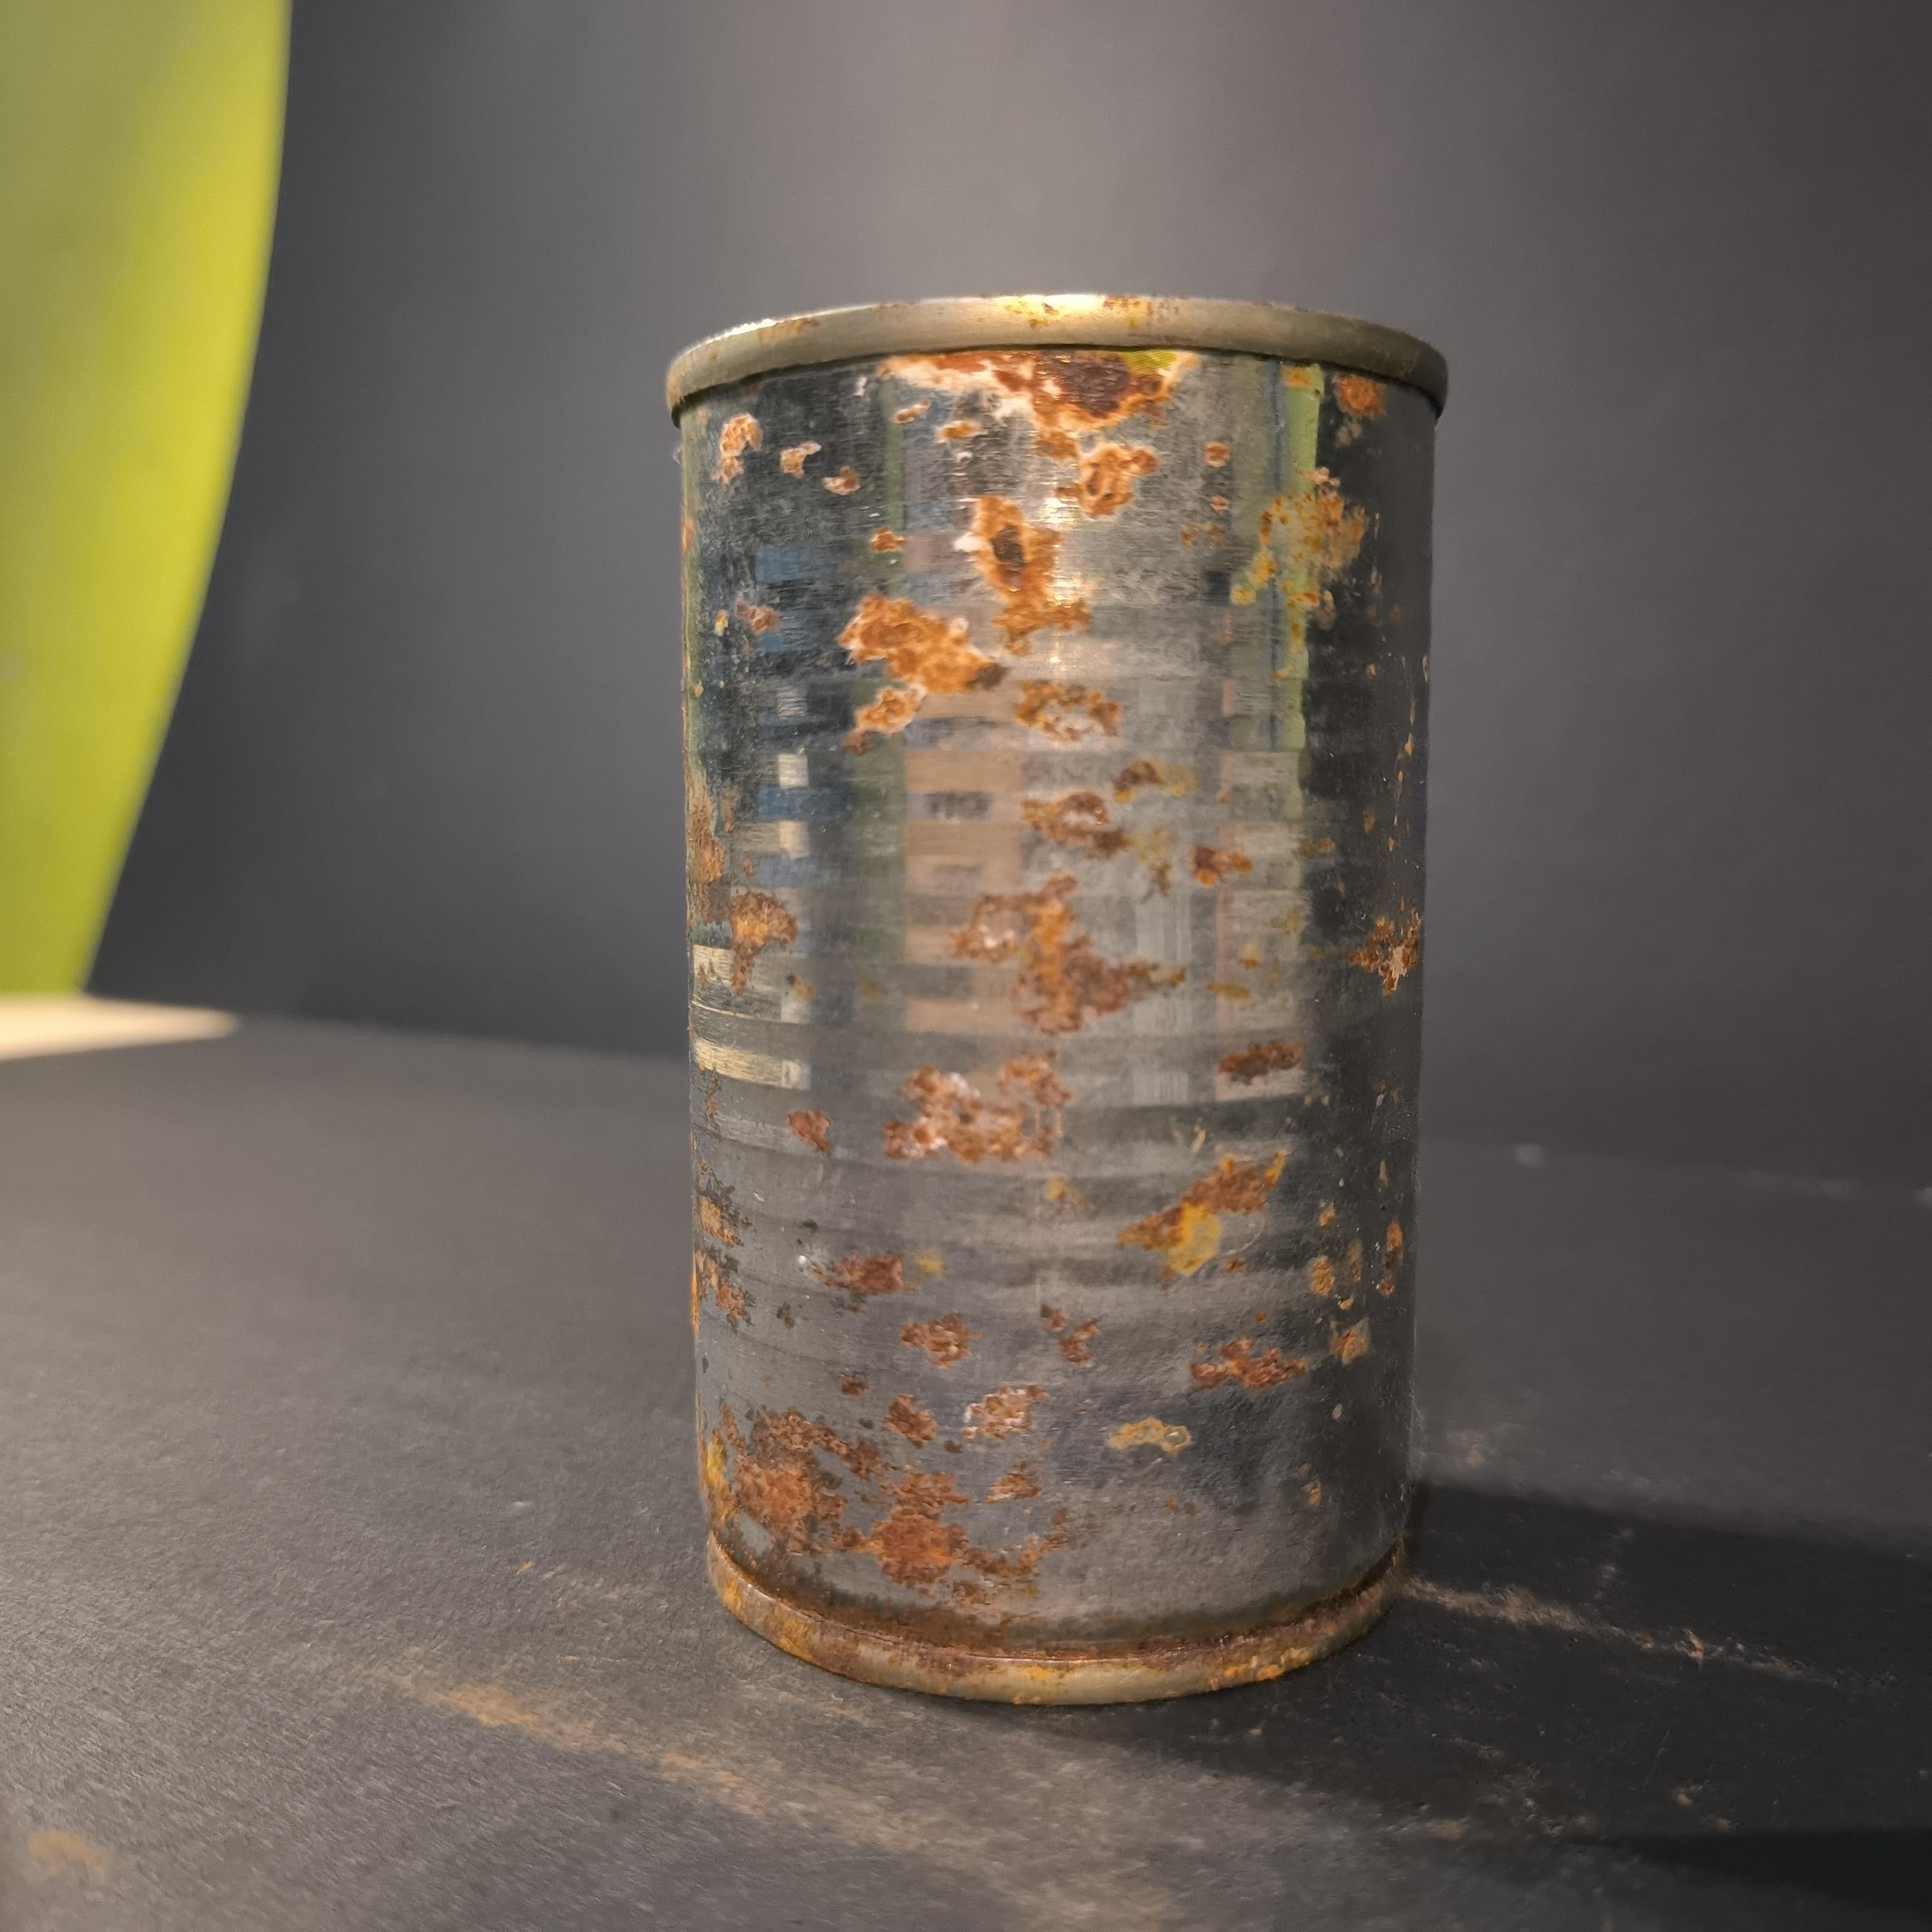Rusted: (646, 276, 1468, 1730)
